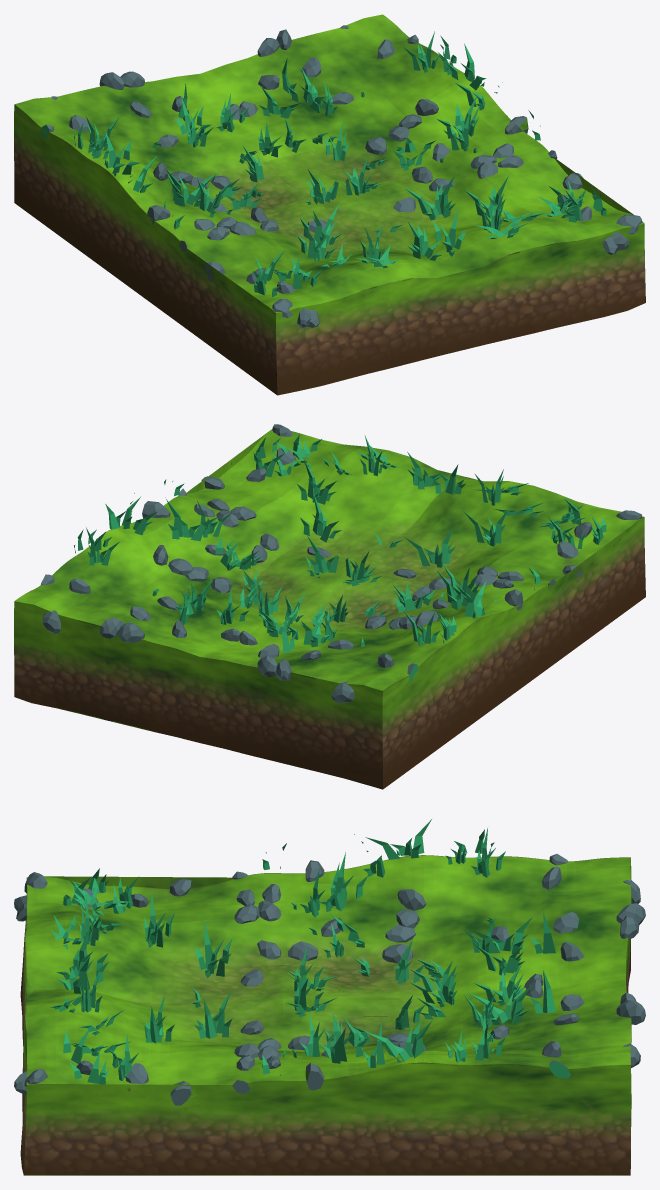
The model's file is re_upper_lgeneral.fbx.
The picture shows the model from 3 angles, top to bottom: view 1: azimuth 30°, elevation 25°; view 2: azimuth 150°, elevation 25°; view 3: azimuth 270°, elevation 25°; orthographic projection. The views are drawn at different scales.
Visible parts, largest first — view 1: middle.001; view 2: middle.001; view 3: middle.001.
Part boxes in pixels (left/top/right/bottom): middle.001: left=14, top=14, right=645, bottom=395; middle.001: left=14, top=424, right=645, bottom=789; middle.001: left=14, top=819, right=645, bottom=1175.
Bounding box in the file's own units: 495 × 170 × 628.
